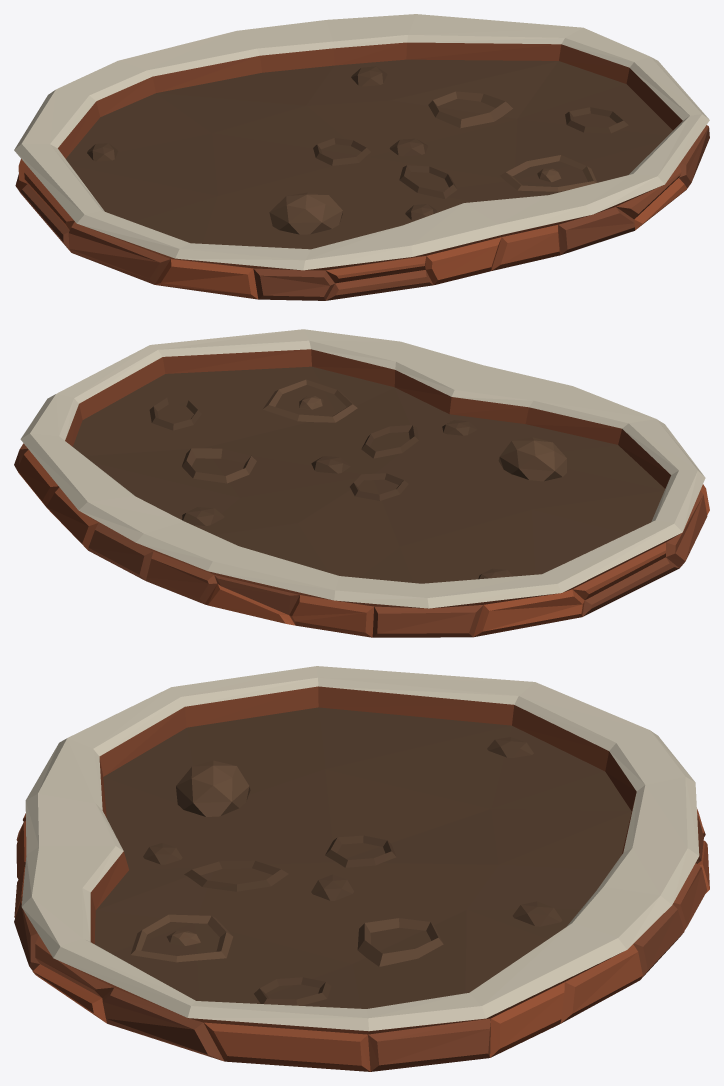
Rendered from bubbling-mud-pool-a1c8ac.glb.
3 renders of one model, top to bottom at view 1: azimuth 30°, elevation 25°; view 2: azimuth 150°, elevation 25°; view 3: azimuth 270°, elevation 25°, orthographic. The views are drawn at different scales.
Parts seen in each view (by area): view 1: pool, bubble-0-dome, bubble-1-ring, bubble-2-ring; view 2: pool, bubble-0-dome, bubble-1-ring, bubble-2-ring; view 3: pool, bubble-0-dome, bubble-1-ring, bubble-2-ring.
Part boxes in pixels (box(x1,y1,x2,y2)): pool: box(14, 14, 709, 300); bubble-0-dome: box(269, 192, 342, 234); bubble-1-ring: box(428, 91, 512, 128); bubble-2-ring: box(500, 155, 597, 191); pool: box(14, 329, 709, 637); bubble-0-dome: box(498, 437, 566, 481); bubble-1-ring: box(182, 448, 256, 483); bubble-2-ring: box(262, 379, 357, 422); pool: box(14, 666, 709, 1071); bubble-0-dome: box(176, 760, 250, 816); bubble-1-ring: box(357, 918, 443, 966); bubble-2-ring: box(130, 914, 233, 962).
Size of the model in its own units: 2.5 by 0.1785 by 2.
